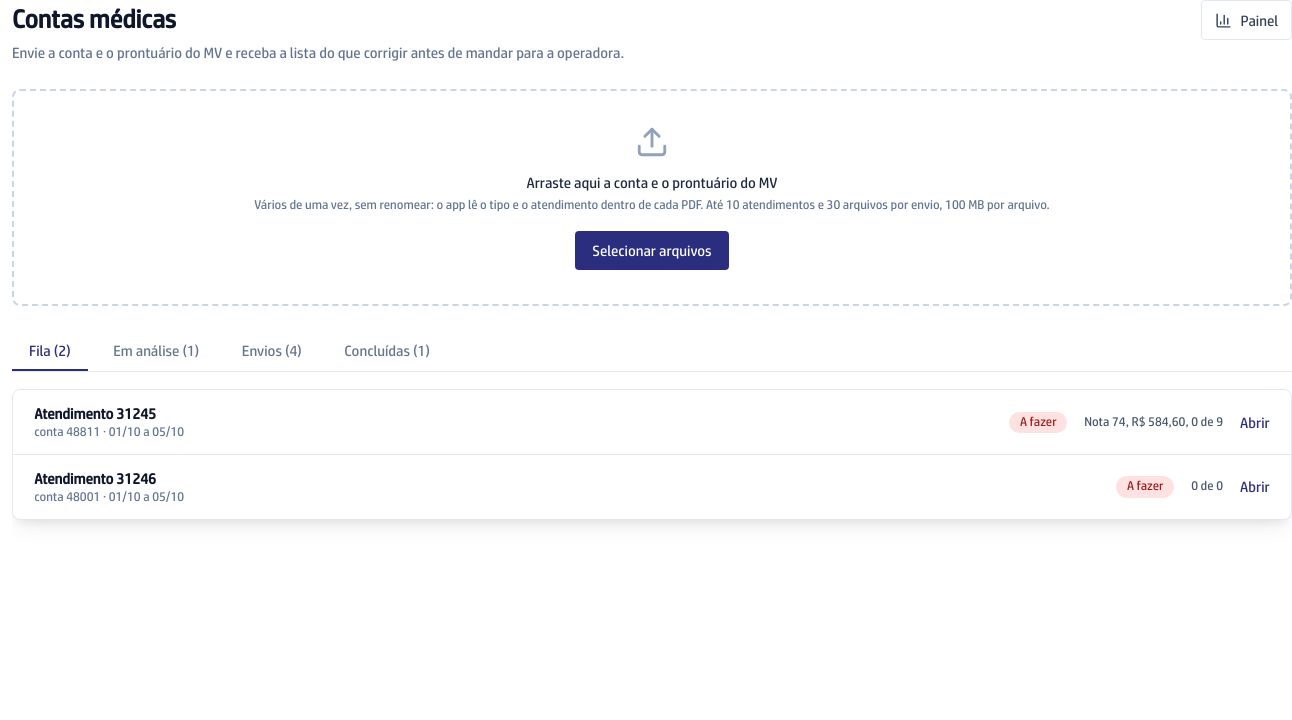
Test: a fila comum › quem tem o painel completo vê com quem está cada conta
Expected: the 1st list item is shown, [13,390,1291,455]
What coordinates should you click on to do the following:
click the tab "Em análise (1)"
I would click on:
 (156, 351)
Its box is [96,331,216,371].
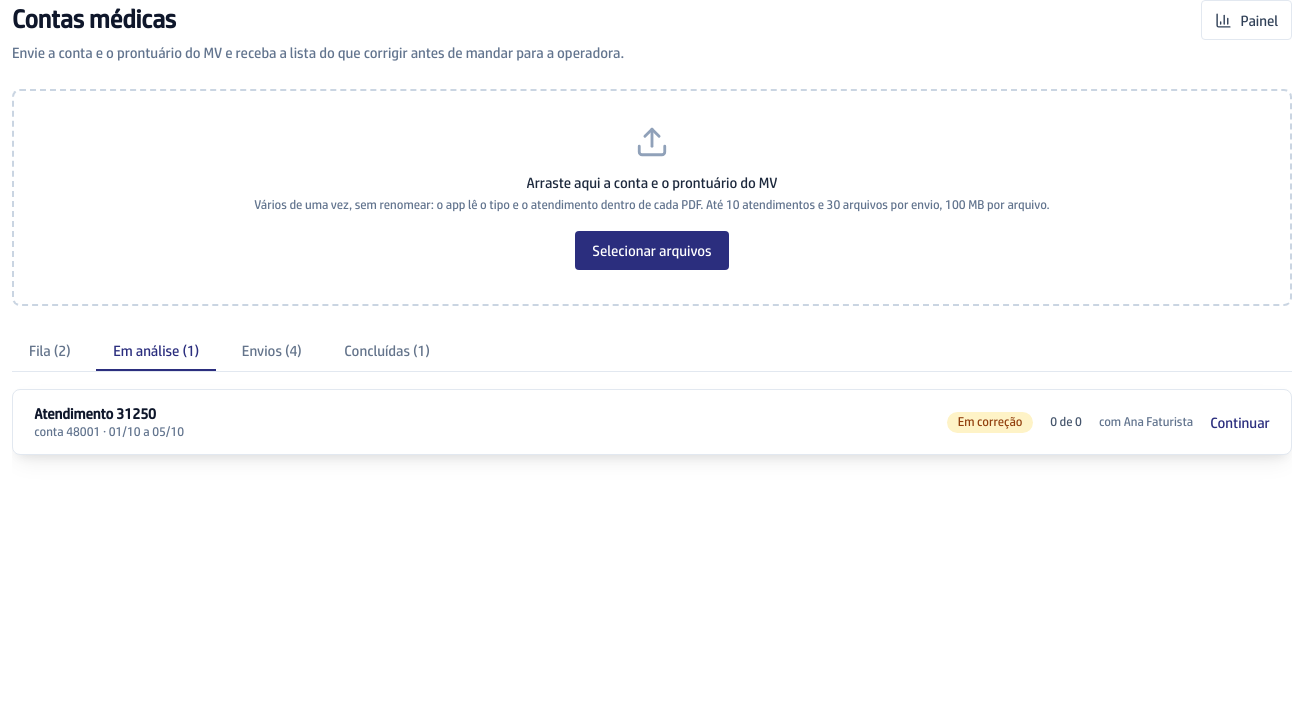
Expected: the list item shows "com Ana Faturista", [34,405,1270,439]
